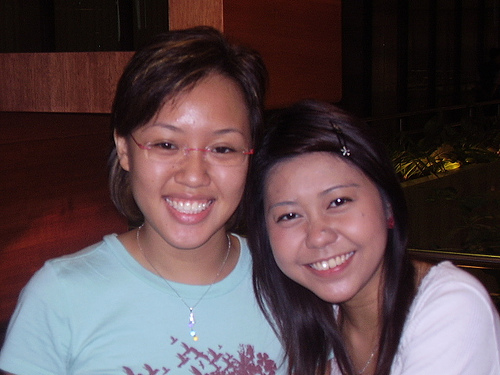without_mask: (113, 60, 260, 250), (251, 143, 405, 307)
